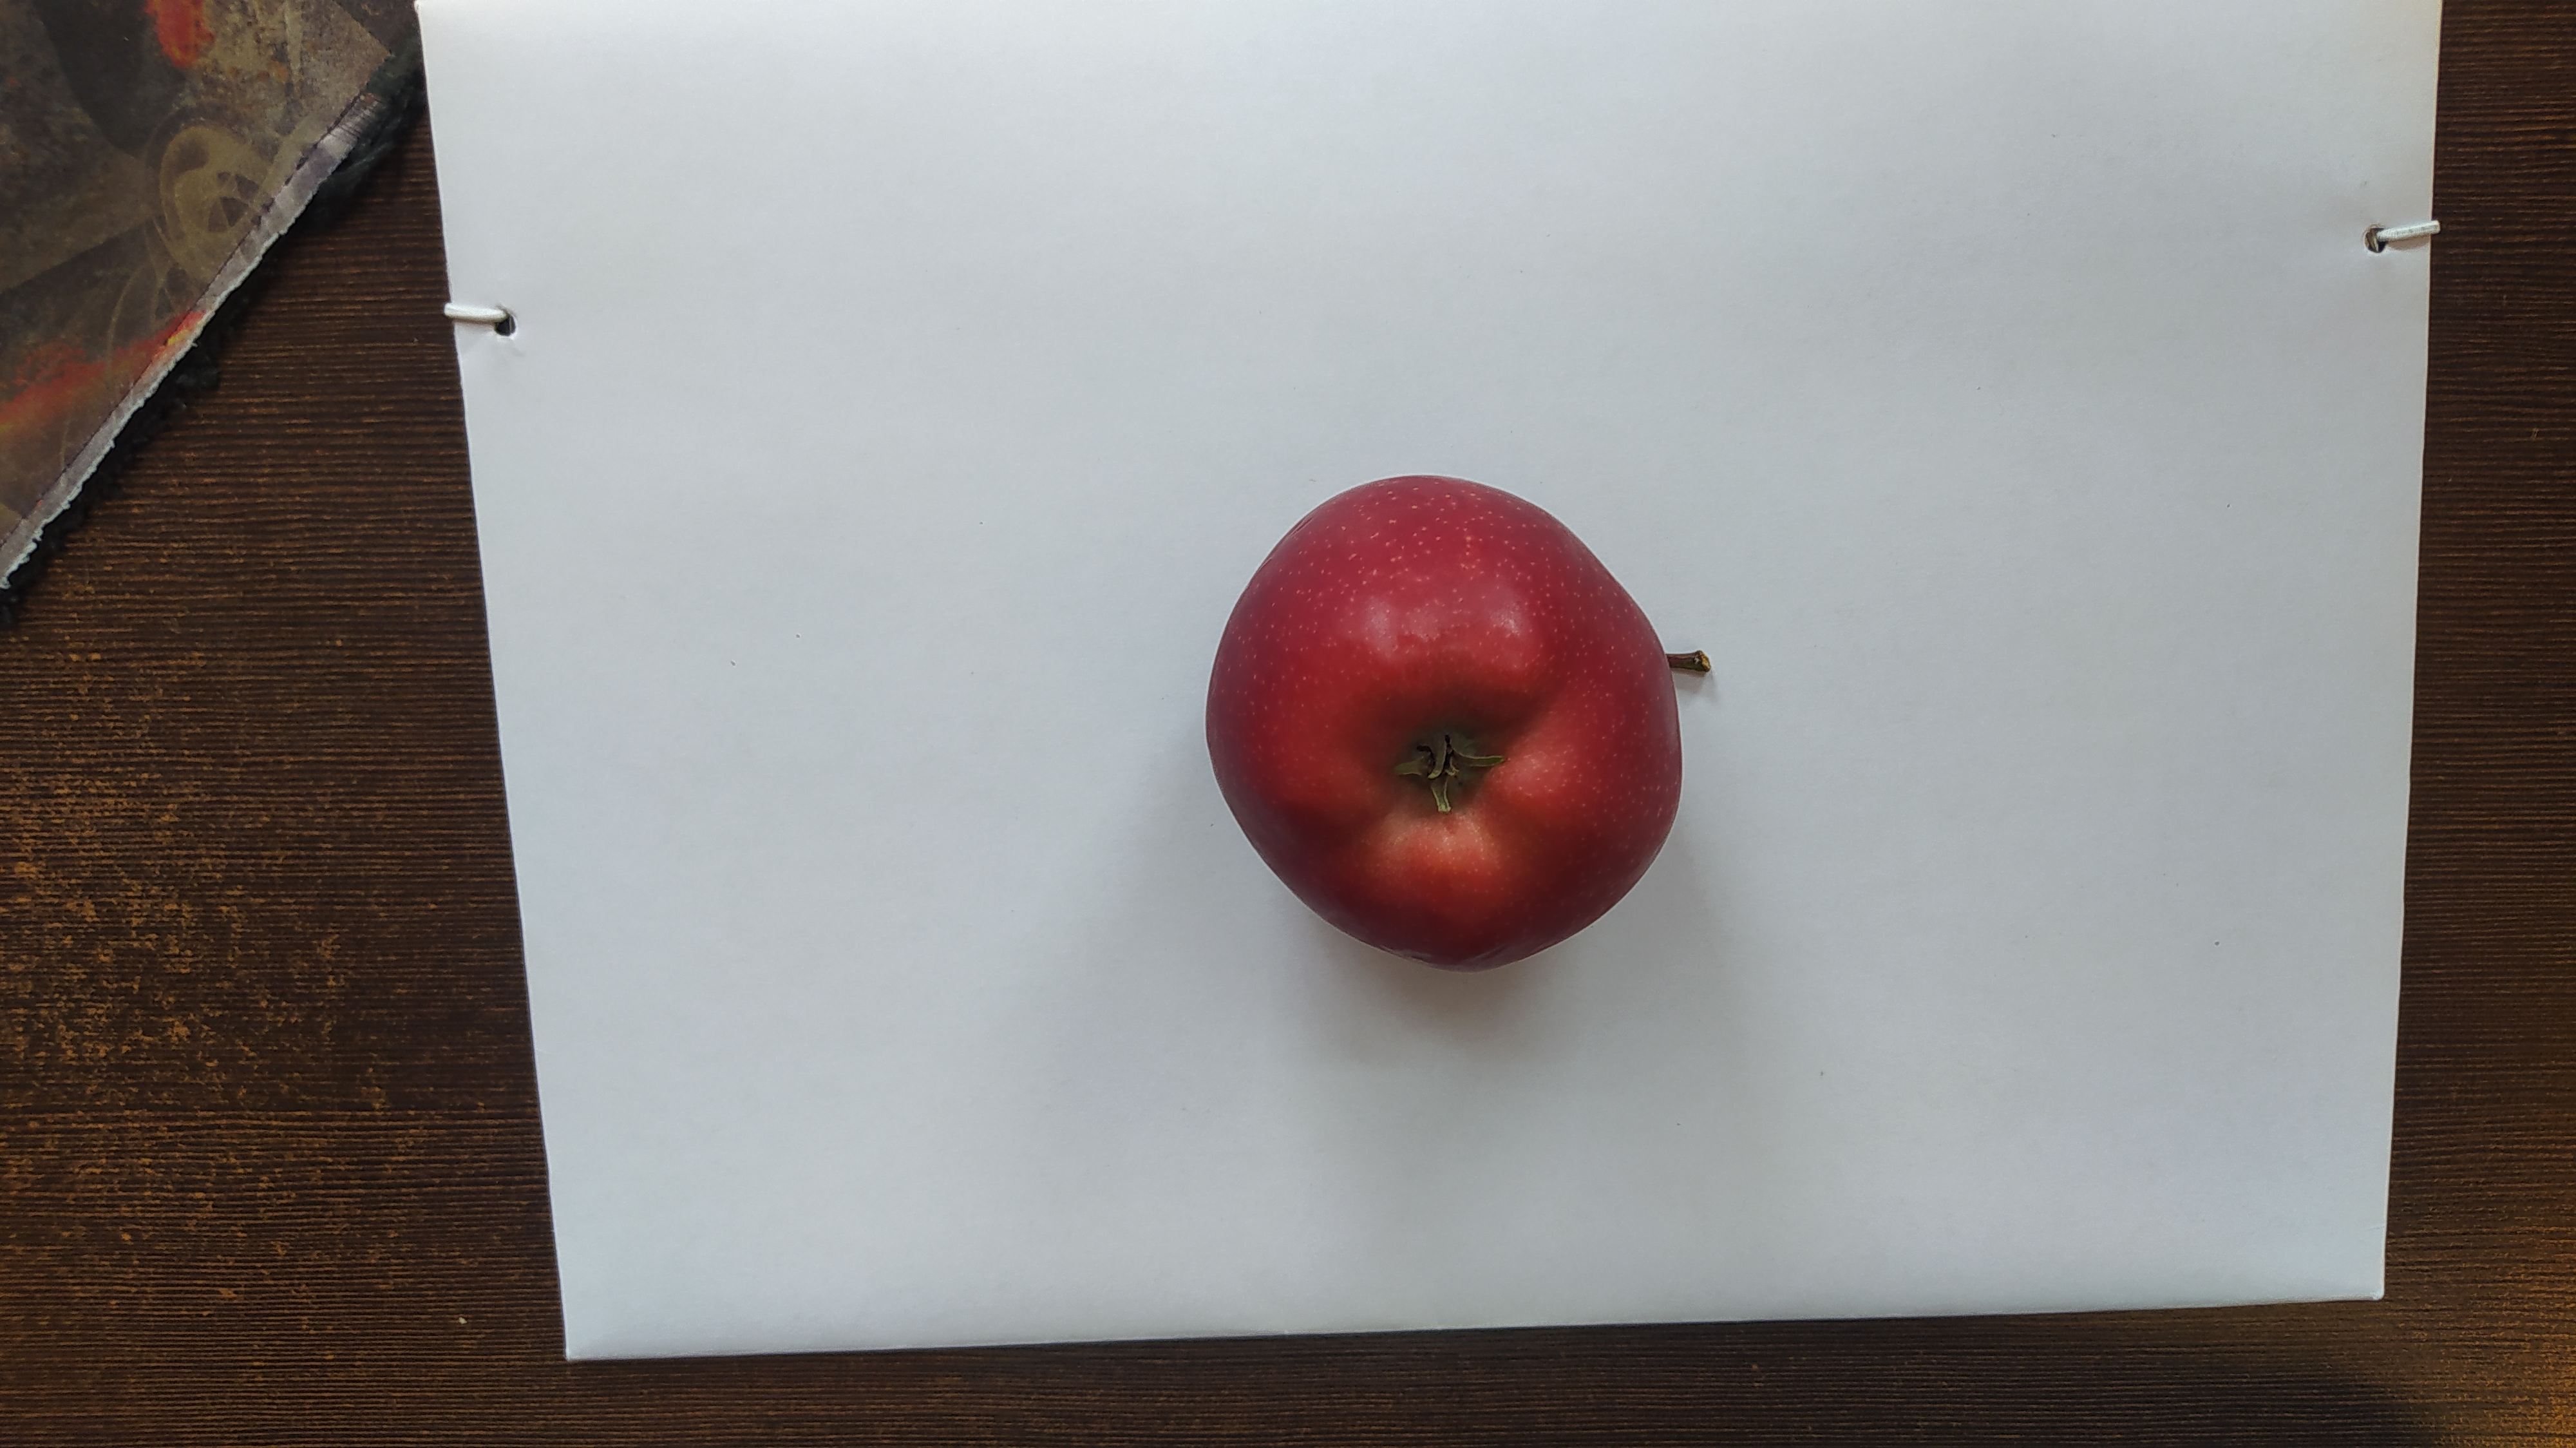apple: (1200, 474, 1686, 972)
